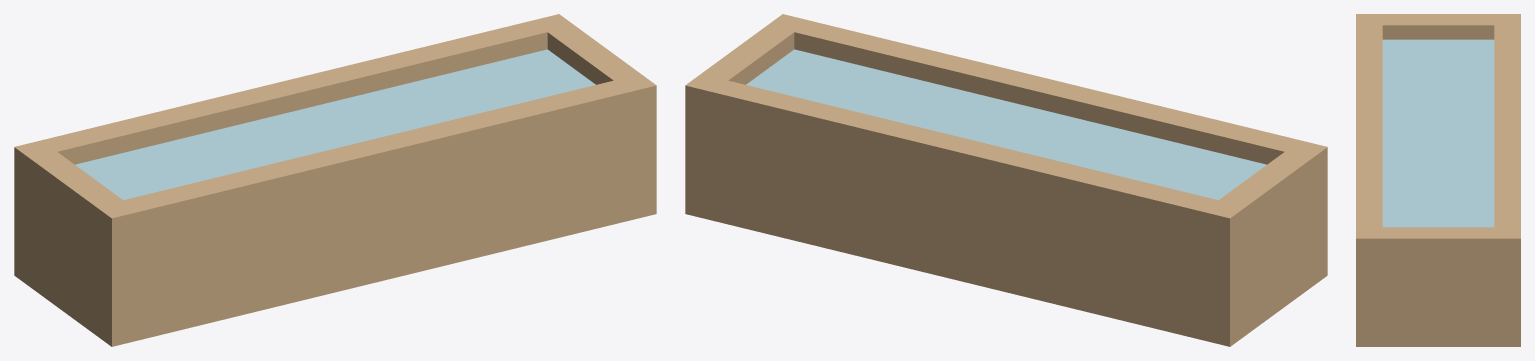
The model's file is drinking bowl.fbx.
The picture shows the model from 3 angles, left to right: view 1: azimuth 30°, elevation 25°; view 2: azimuth 150°, elevation 25°; view 3: azimuth 270°, elevation 25°; orthographic projection. The views are drawn at different scales.
Visible parts, largest first — view 1: zdq_1; view 2: zdq_1; view 3: zdq_1.
Part boxes in pixels (bbox=[...]): zdq_1: bbox=[14, 14, 656, 346]; zdq_1: bbox=[685, 14, 1327, 346]; zdq_1: bbox=[1356, 14, 1520, 346].
Size of the model in its own units: 649 by 146 by 201.
